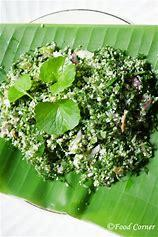Gotukola Mallum: (5, 32, 151, 195)
